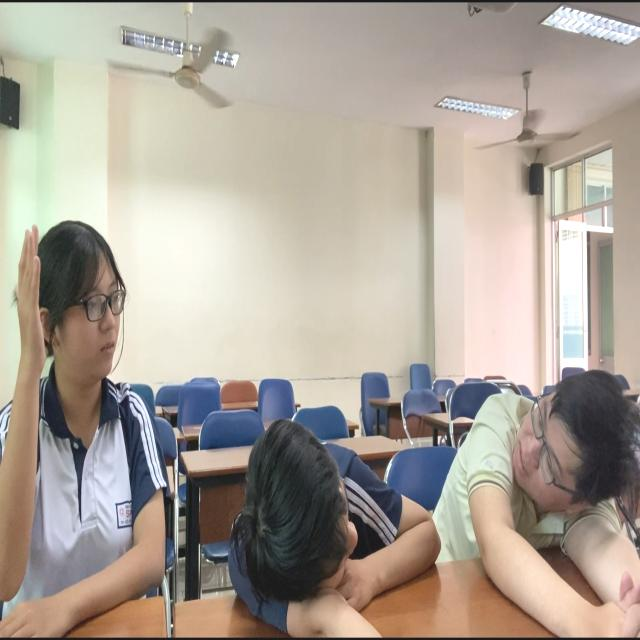raise_hand: (1, 196, 187, 640)
sleep: (234, 386, 460, 640)
